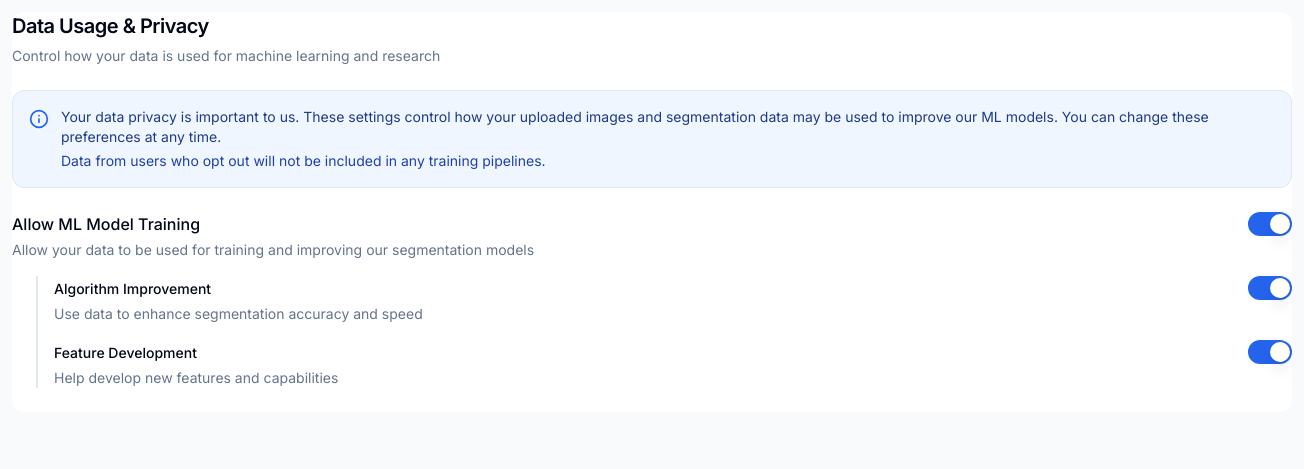
it: ConsentSection › toggle interactions › turning ML training OFF forces sub-options off
// Turn off ML training
Click the switch named "allow ml model training" in the row of "Allow ML Model Training" at (1270, 224), box [1248,212,1292,236]
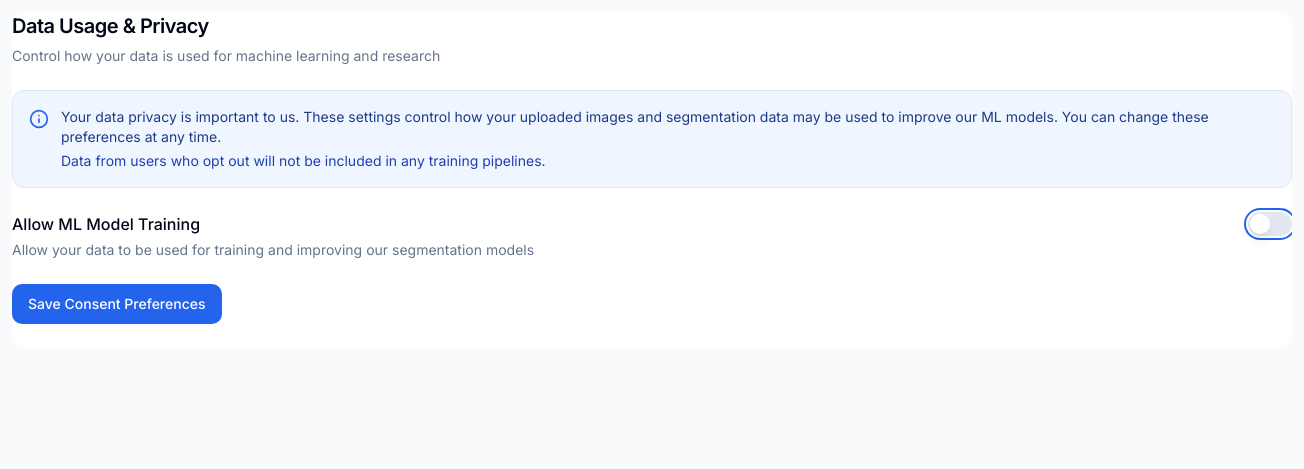
// Turn it back on to make sub-options visible again
Click the switch named "allow ml model training" at (1270, 224), box [1248,212,1292,236]
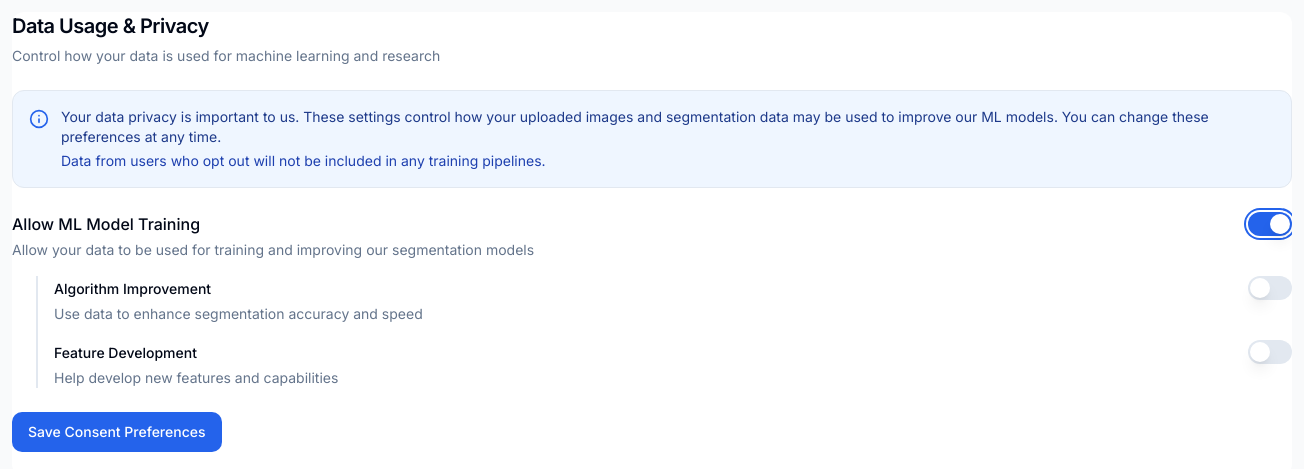
expect the switch named "algorithm improvement" in the row of "Algorithm Improvement" is not checked: met, box [1248,276,1292,300]
expect the switch named "feature development" in the row of "Feature Development" is not checked: met, box [1248,340,1292,364]
